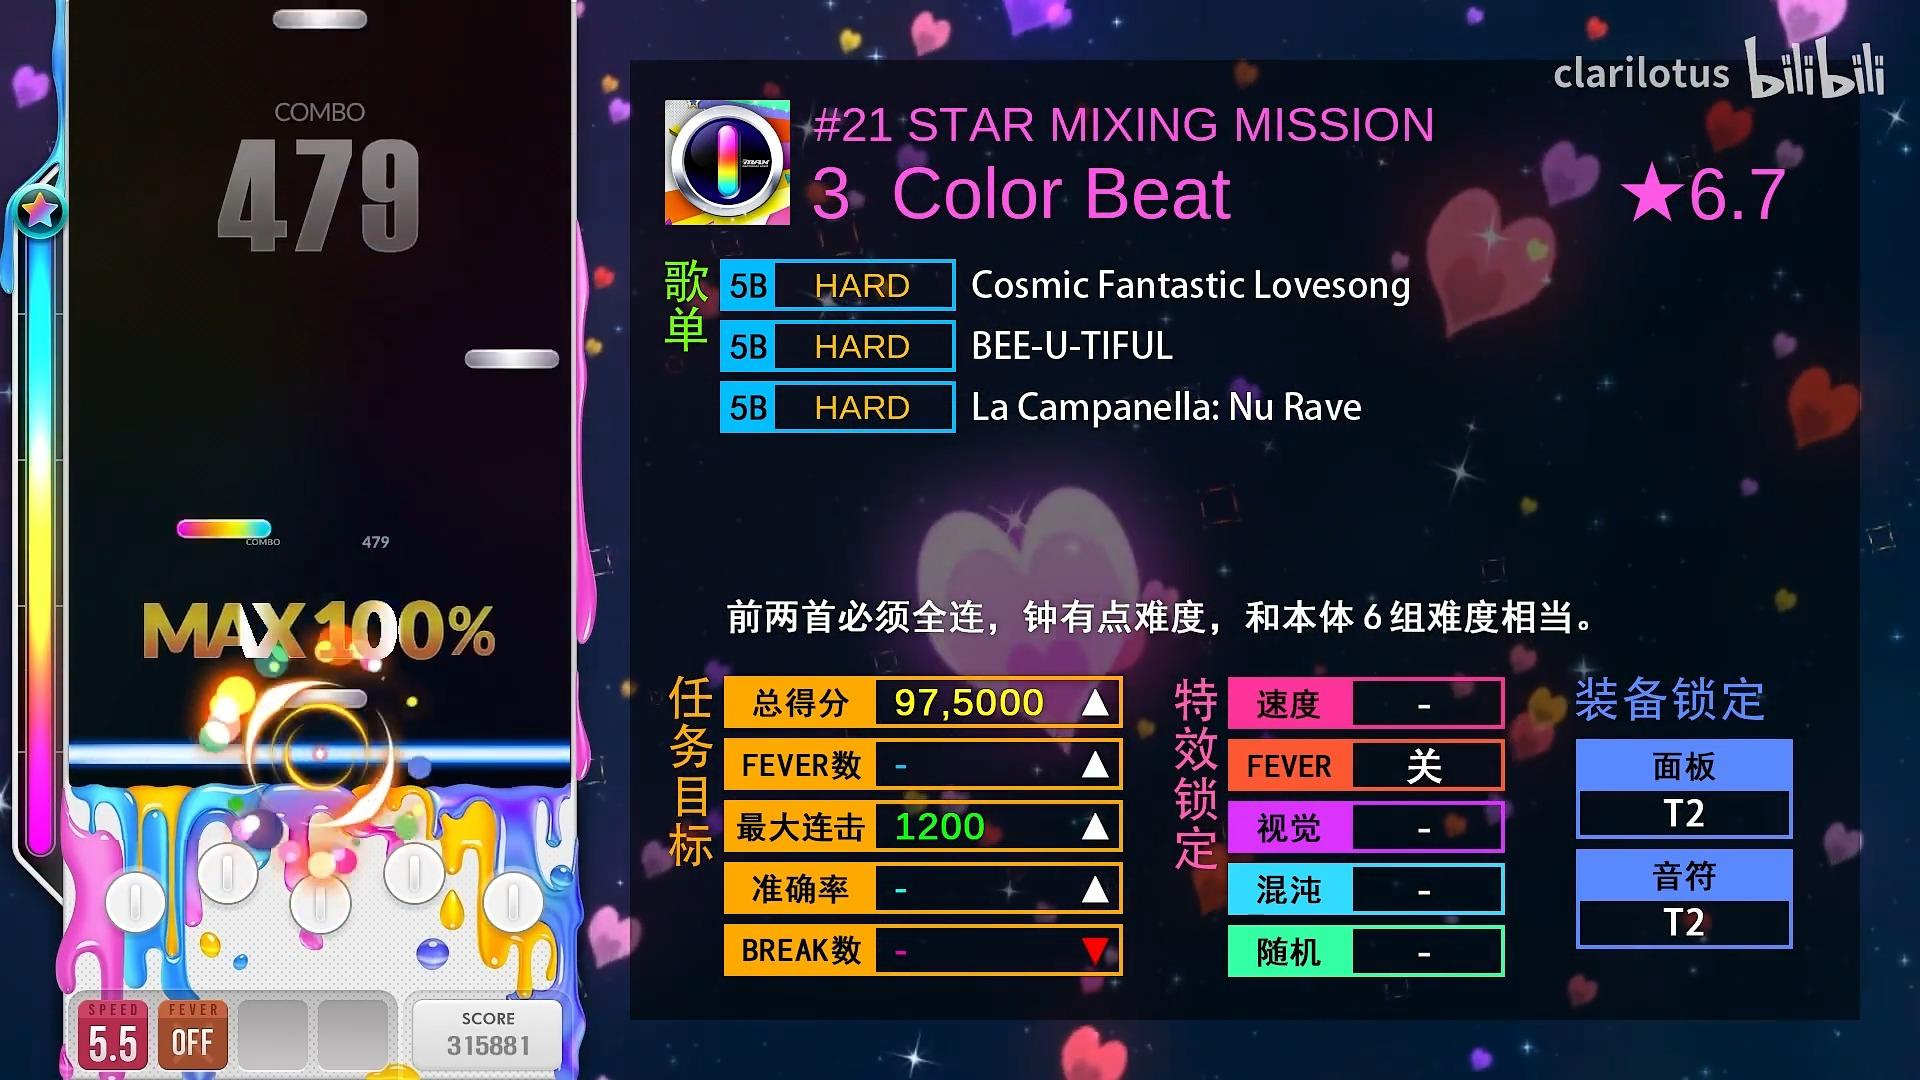note: (465, 348, 559, 371), (273, 9, 368, 30), (177, 518, 272, 539), (276, 688, 367, 709)
